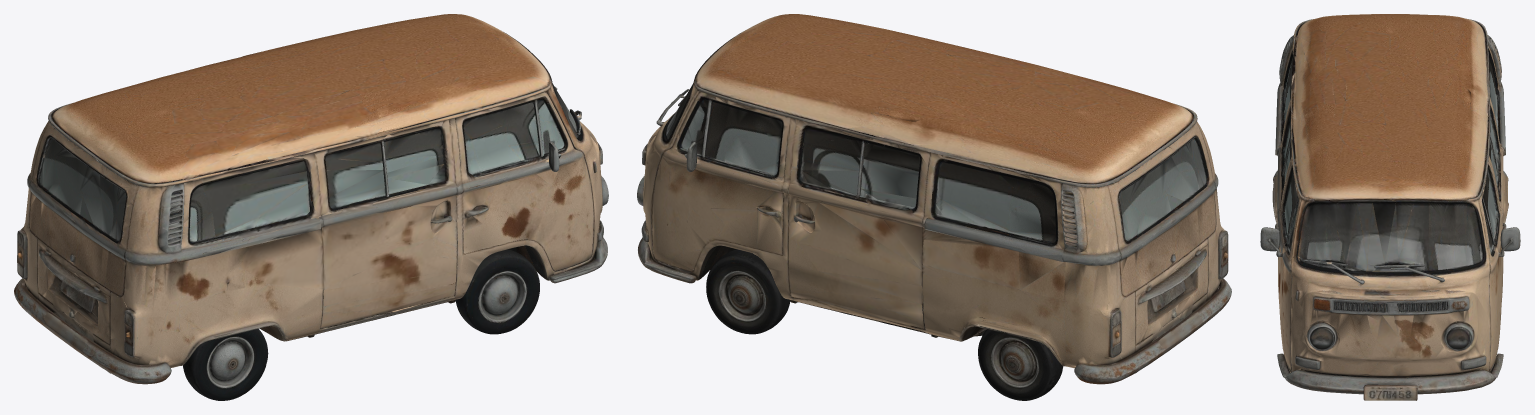
The model's file is pao-de-forma-abandonado__01a16c1c.glb.
3 renders of one model, left to right at view 1: azimuth 30°, elevation 25°; view 2: azimuth 150°, elevation 25°; view 3: azimuth 270°, elevation 25°, orthographic. The views are drawn at different scales.
Parts seen in each view (by area): view 1: pao-de-forma-abandonado; view 2: pao-de-forma-abandonado; view 3: pao-de-forma-abandonado.
Part boxes in pixels (x1=…): pao-de-forma-abandonado: x1=14, y1=14, x2=608, y2=400; pao-de-forma-abandonado: x1=637, y1=14, x2=1231, y2=400; pao-de-forma-abandonado: x1=1260, y1=14, x2=1520, y2=400.
Bounding box in the file's own units: 4.5 × 2.1 × 2.19.
1 material, 1 textured.
